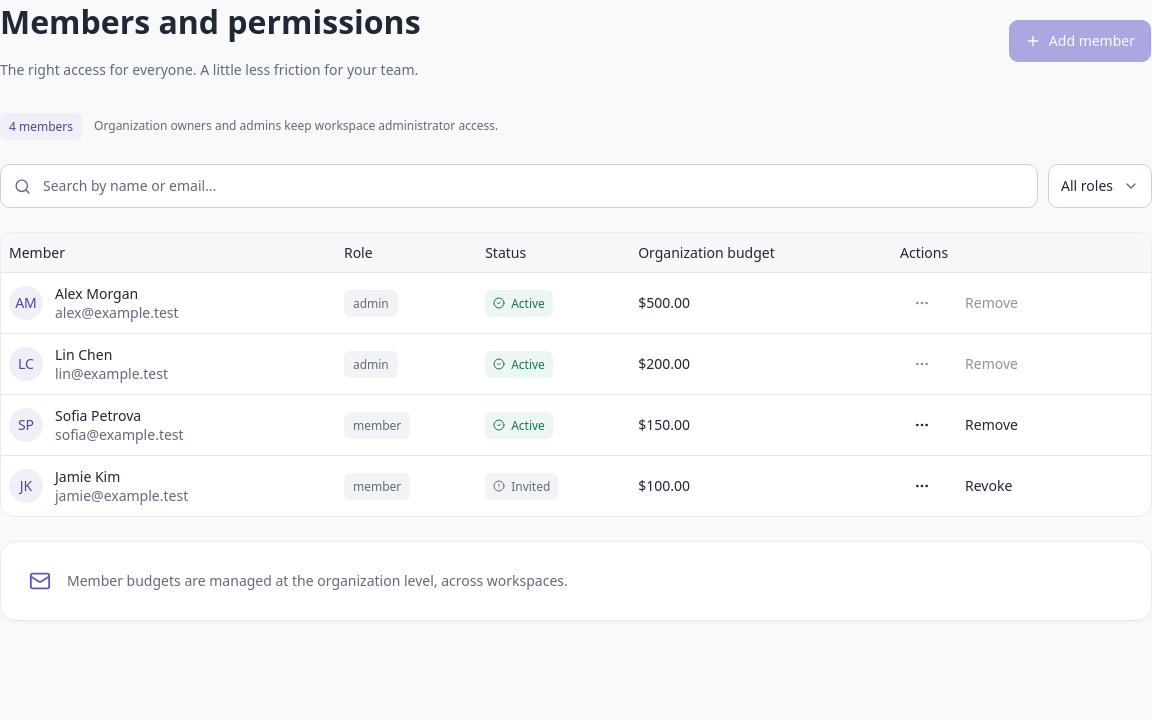
Test: Workspace membership boundaries › removing a workspace member preserves their organization membership
Later steps or results of the test are not shown.
Click the button "Remove" in the row of "Sofia Petrova" at (991, 425), box x1=948 y1=403 x2=1035 y2=447
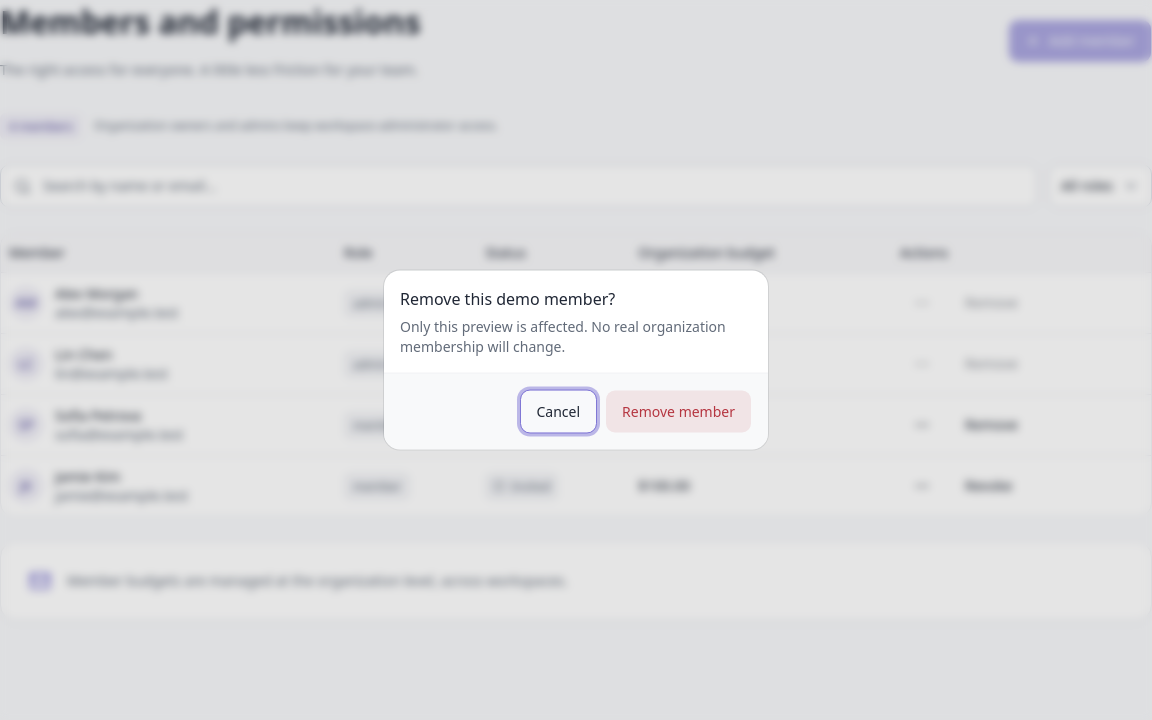
Click the button "Remove member" at (679, 412), box x1=605 y1=390 x2=752 y2=434
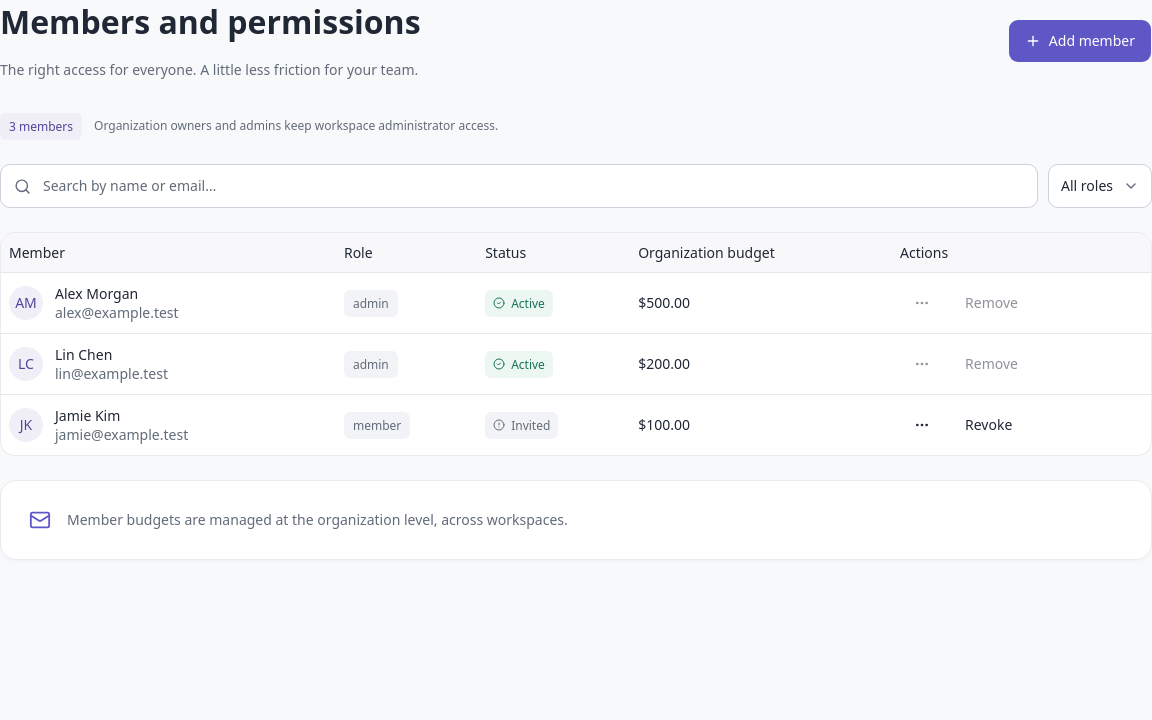
Now the row "Sofia Petrova" is gone
